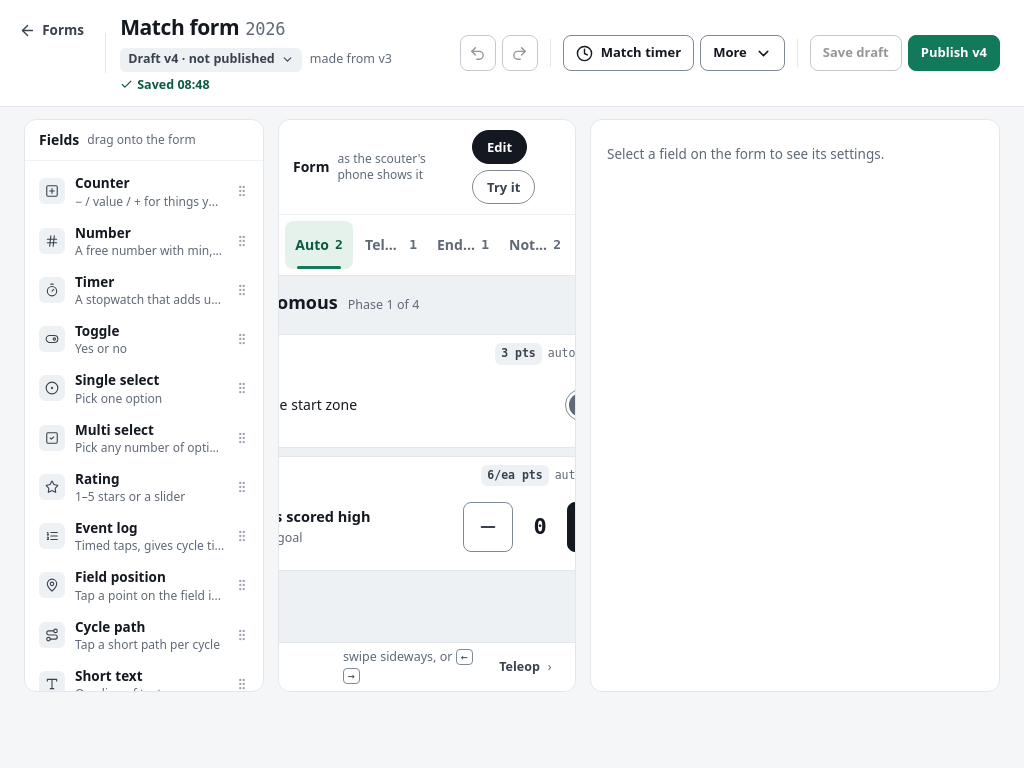
Scenario: Edit as JSON: the raw-JSON editor (task 1.31) › opens closed, behind the advanced item in the More menu
Expected: the element "Form" is shown, [278,119,576,692]
What coordinates should you click on to do the following:
click the button "More"
I would click on:
 (742, 53)
Its box is [700,35,785,71].
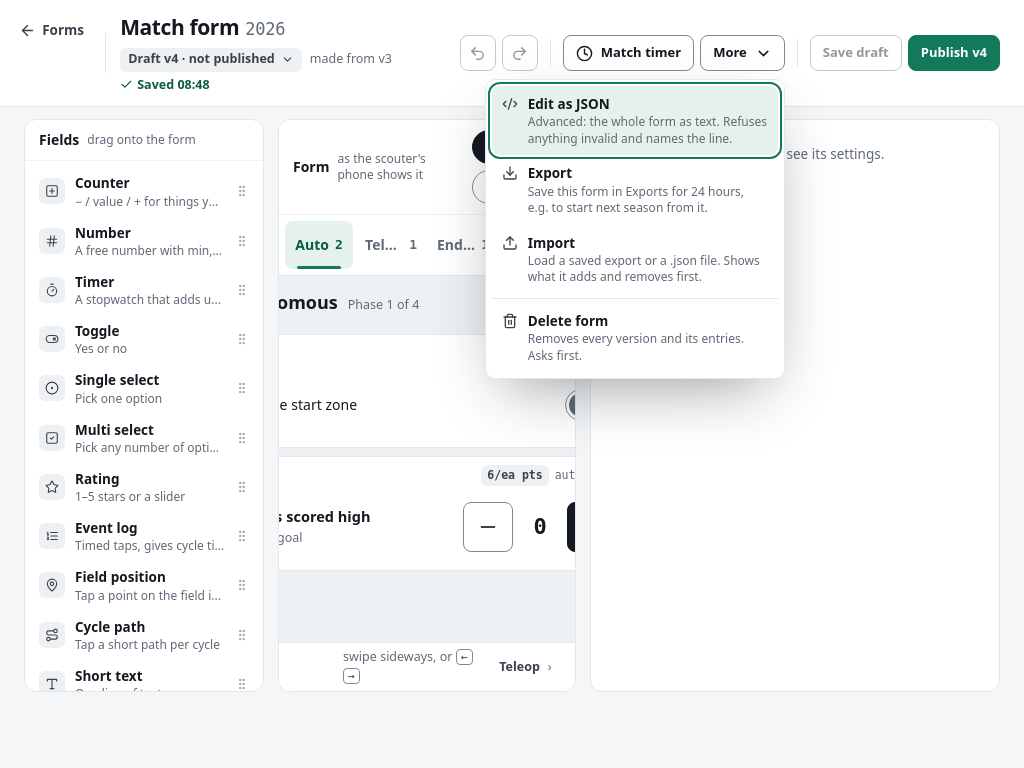
Expected: the menu item "Edit as JSON" shows "Advanced: the whole form as text."
What coordinates should you click on to do the following:
click the menu item "Edit as JSON"
I would click on:
 (635, 121)
Its box is [492,86,778,155].
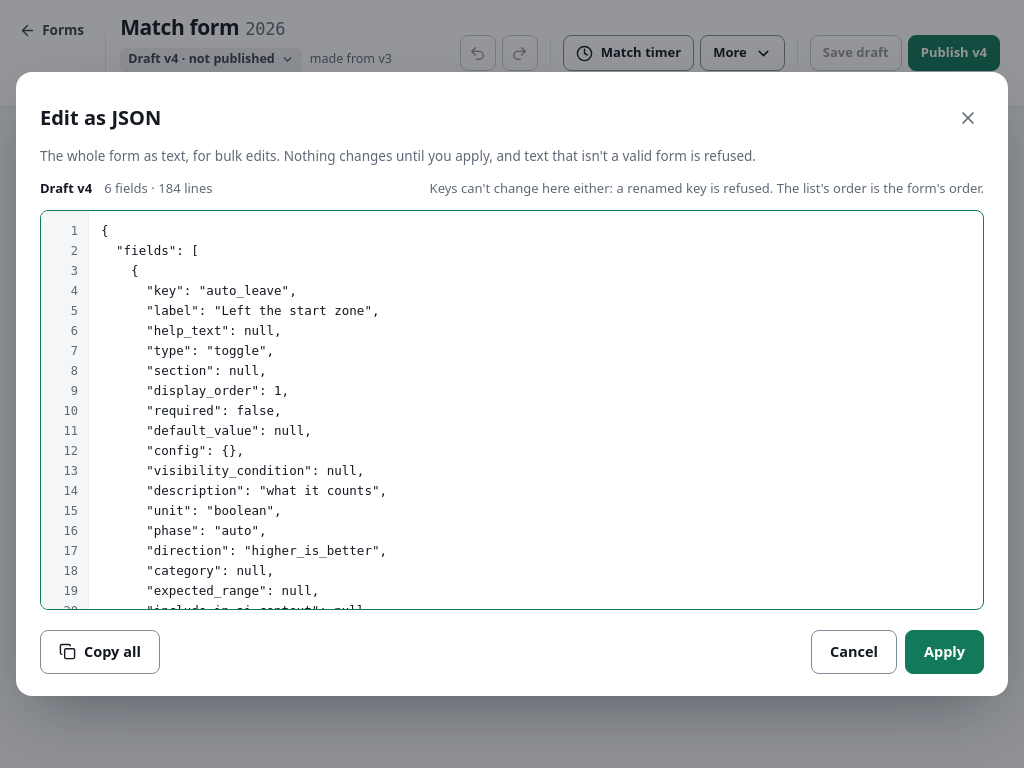
Expected: the button "Apply" is enabled, [905,630,984,674]
